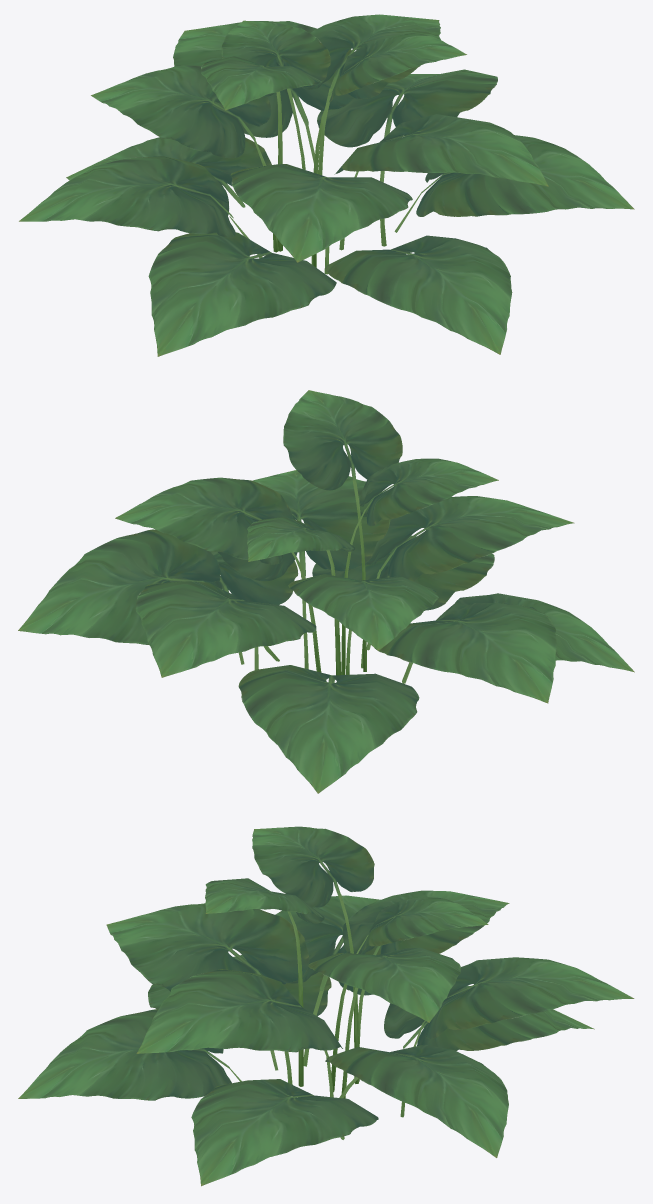
The model's file is SM_EastLands_LargeLeaves_01.fbx.
3 renders of one model, top to bottom at view 1: azimuth 30°, elevation 25°; view 2: azimuth 150°, elevation 25°; view 3: azimuth 270°, elevation 25°, orthographic.
Visible parts, largest first — view 1: SM_EastLands_LargeLeaves_01_LOD0; view 2: SM_EastLands_LargeLeaves_01_LOD0; view 3: SM_EastLands_LargeLeaves_01_LOD0.
Part boxes in pixels (box(x1,y1,x2,y2)): SM_EastLands_LargeLeaves_01_LOD0: box(19, 14, 634, 356); SM_EastLands_LargeLeaves_01_LOD0: box(18, 390, 634, 793); SM_EastLands_LargeLeaves_01_LOD0: box(18, 826, 634, 1186).
Size of the model in its own units: 205 by 87.82 by 216.
